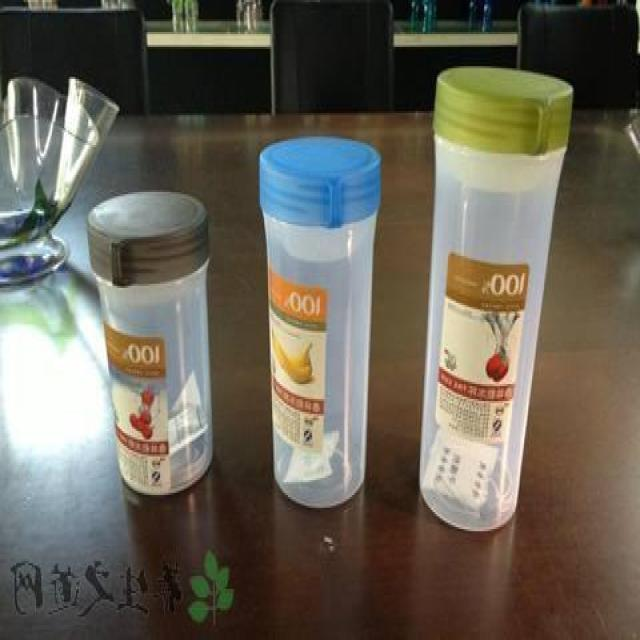plastic: (404, 59, 574, 548), (261, 135, 384, 511), (85, 185, 216, 502)
